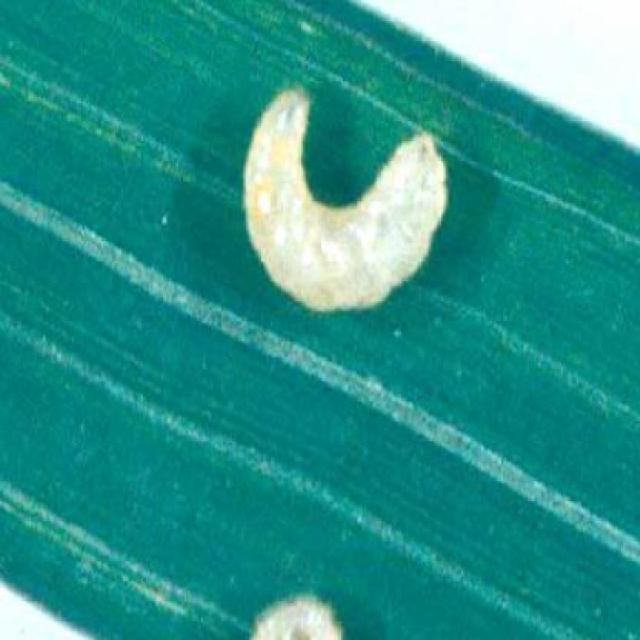whorl-maggot: (240, 74, 454, 328)
